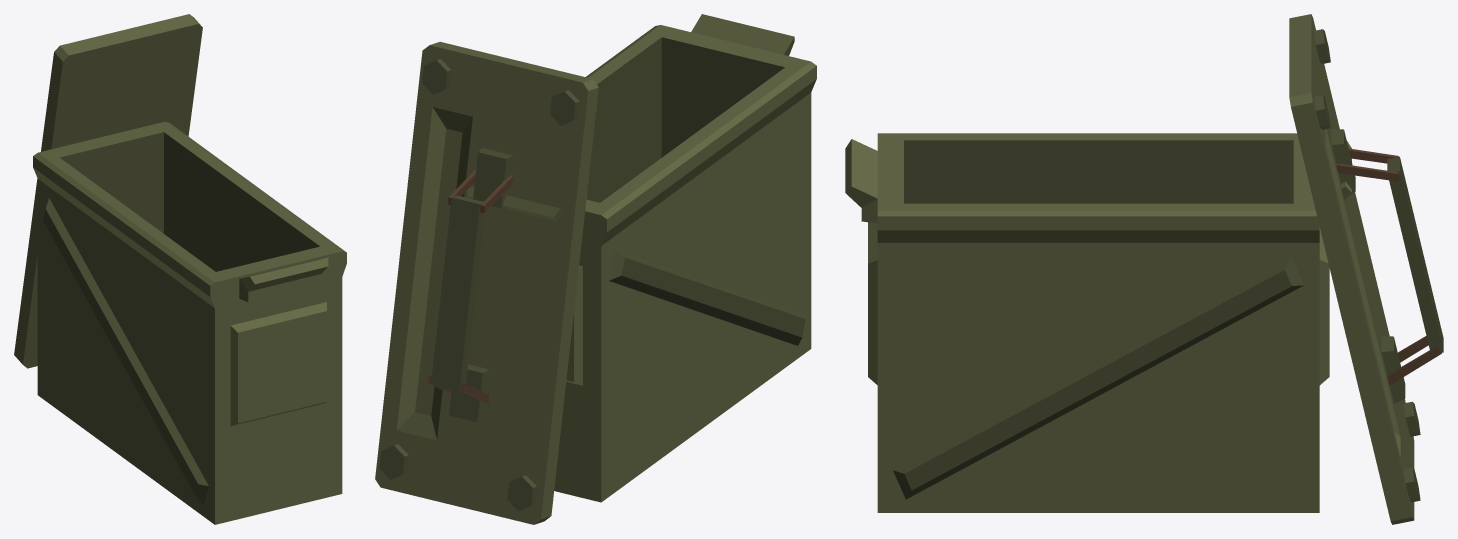
The model's file is SM_Prop_Ammo_Box_Open_01.fbx.
The picture shows the model from 3 angles, left to right: view 1: azimuth 30°, elevation 25°; view 2: azimuth 150°, elevation 25°; view 3: azimuth 270°, elevation 25°; orthographic projection. The views are drawn at different scales.
Visible parts, largest first — view 1: SM_Prop_Ammo_Box_Open_01, SM_Prop_Ammo_Box_Open_Lid_01; view 2: SM_Prop_Ammo_Box_Open_01, SM_Prop_Ammo_Box_Open_Lid_01; view 3: SM_Prop_Ammo_Box_Open_01, SM_Prop_Ammo_Box_Open_Lid_01.
Part boxes in pixels (left/top/right/bottom): SM_Prop_Ammo_Box_Open_01: left=33, top=121, right=346, bottom=524; SM_Prop_Ammo_Box_Open_Lid_01: left=14, top=14, right=202, bottom=368; SM_Prop_Ammo_Box_Open_01: left=467, top=14, right=816, bottom=502; SM_Prop_Ammo_Box_Open_Lid_01: left=375, top=41, right=598, bottom=524; SM_Prop_Ammo_Box_Open_01: left=845, top=133, right=1351, bottom=512; SM_Prop_Ammo_Box_Open_Lid_01: left=1289, top=14, right=1443, bottom=524.
Size of the model in its own units: 0.353 by 0.734 by 0.9185.
1 material, 1 textured.
